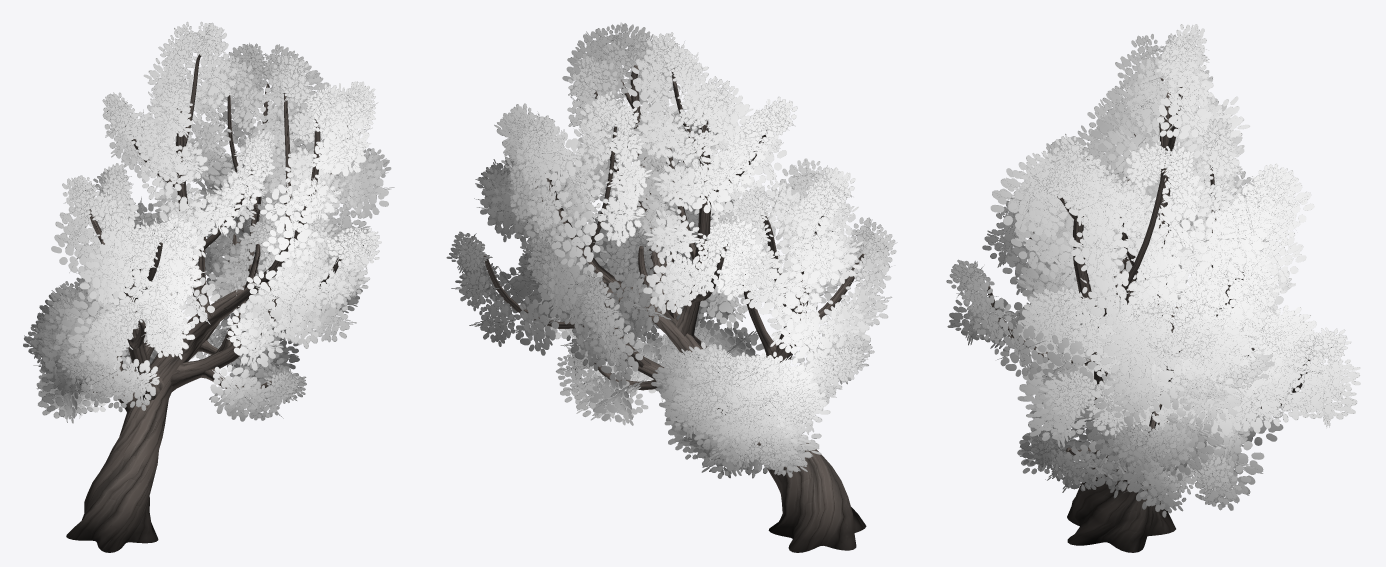
Rendered from TwistedTree_1.gltf.
The picture shows the model from 3 angles, left to right: view 1: azimuth 30°, elevation 25°; view 2: azimuth 150°, elevation 25°; view 3: azimuth 270°, elevation 25°; orthographic projection. The views are drawn at different scales.
Parts seen in each view (by area): view 1: TwistedTree_1; view 2: TwistedTree_1; view 3: TwistedTree_1.
Boxes of the visible parts, <box> form: TwistedTree_1: <box>23,22,394,552</box>; TwistedTree_1: <box>446,22,897,552</box>; TwistedTree_1: <box>946,24,1360,552</box>.
Bounding box in the file's own units: 13.52 × 16.73 × 11.55.
2 materials, 2 textured.
